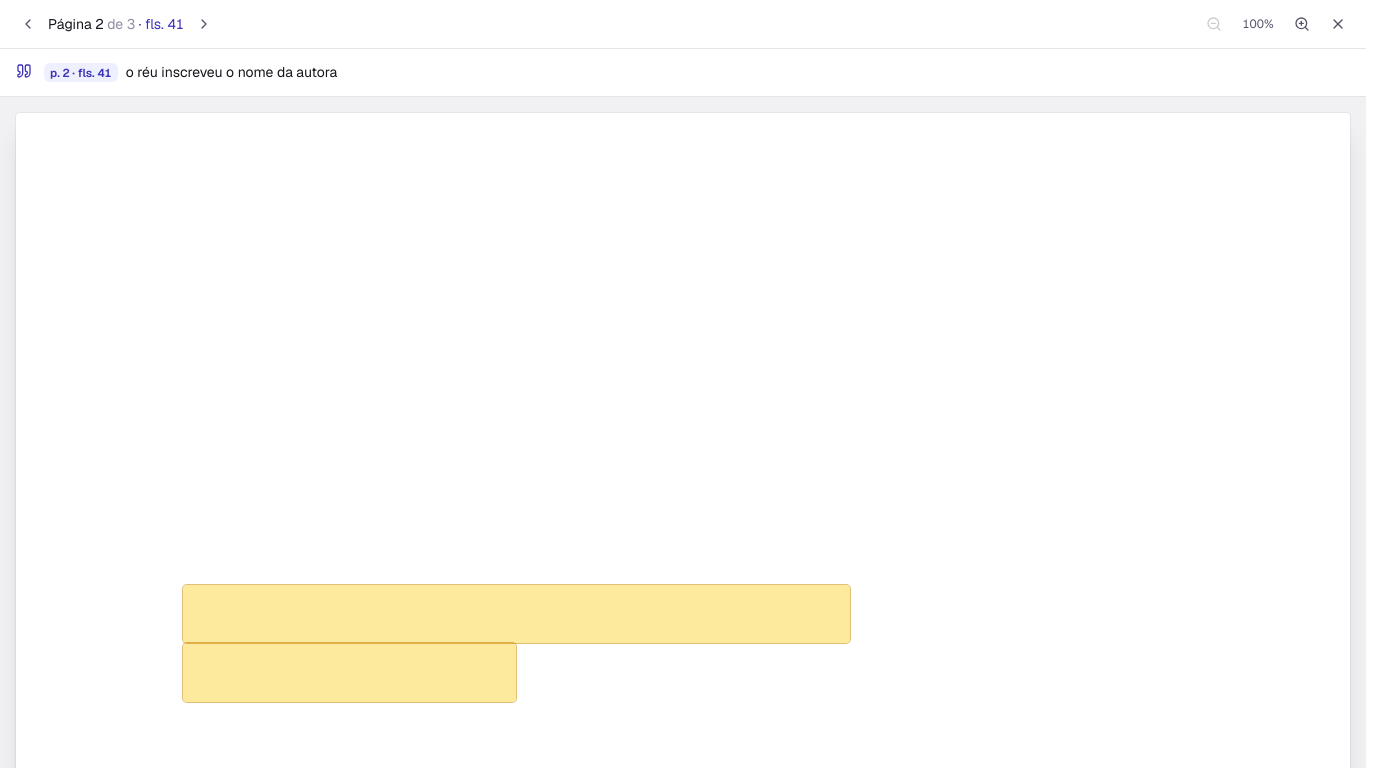
PdfViewer › stops zooming out at the width that fits and zooming in at three times it
Expected: the button named "Diminuir o zoom" is disabled, x1=1198 y1=8 x2=1230 y2=40
Click the button named "Aumentar o zoom" at coordinates (1302, 24), box x1=1286 y1=8 x2=1318 y2=40
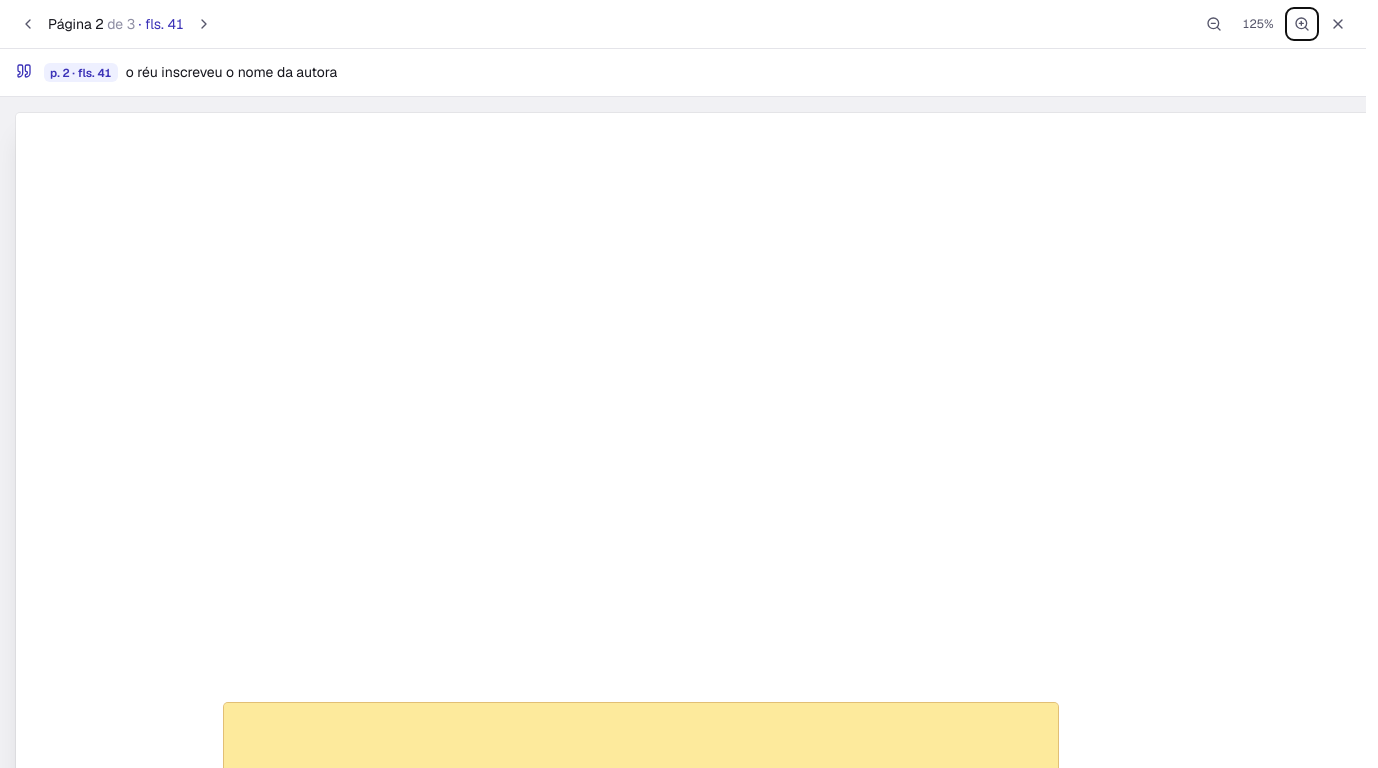
Click the button named "Aumentar o zoom" at coordinates (1302, 24), box x1=1286 y1=8 x2=1318 y2=40
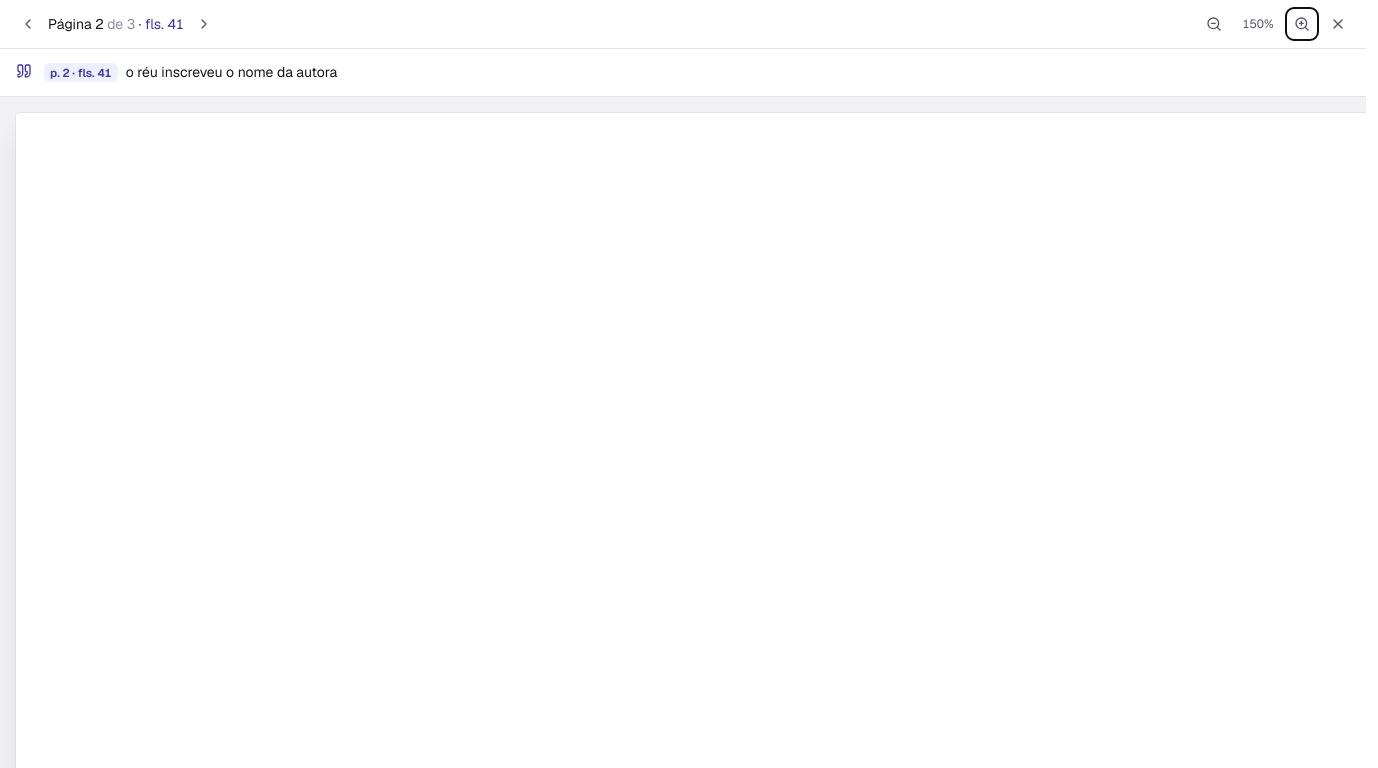
Click the button named "Aumentar o zoom" at coordinates (1302, 24), box x1=1286 y1=8 x2=1318 y2=40
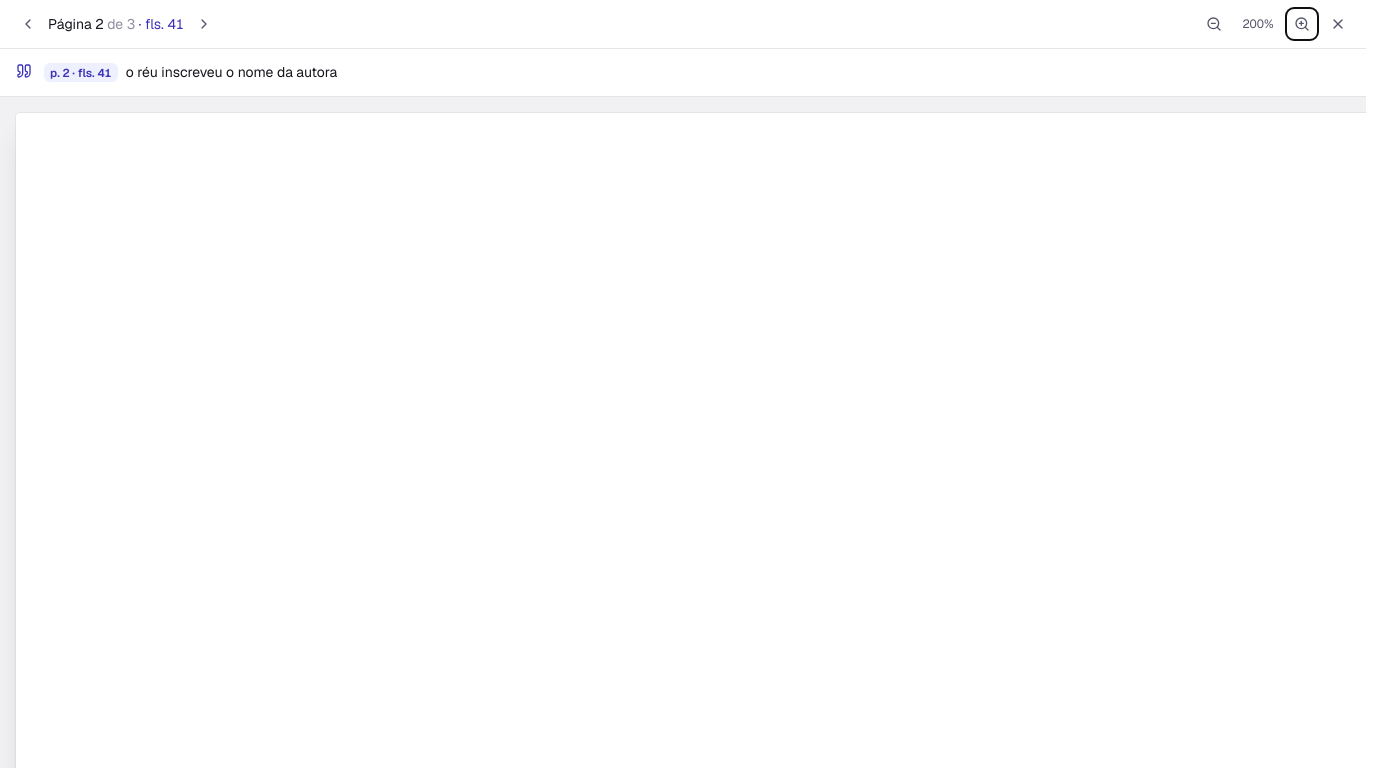
Click the button named "Aumentar o zoom" at coordinates (1302, 24), box x1=1286 y1=8 x2=1318 y2=40
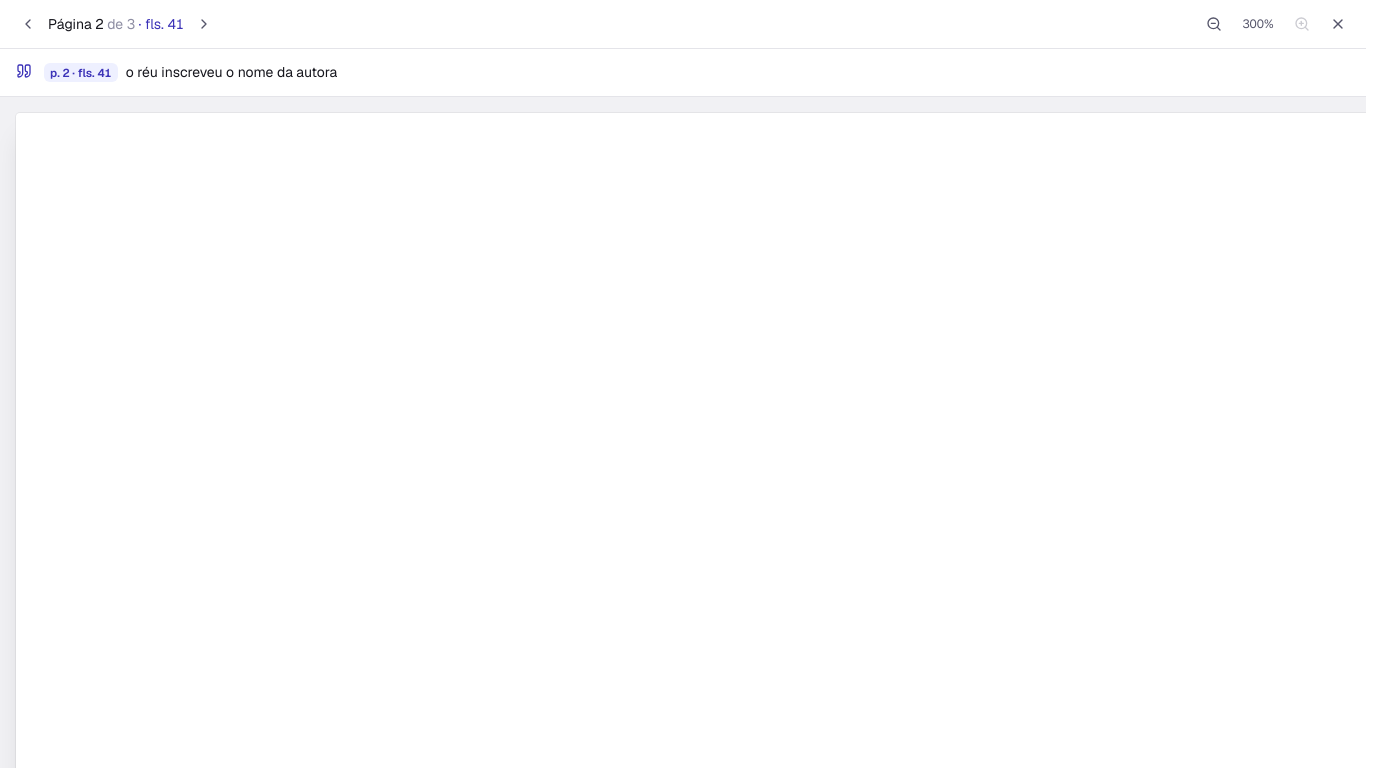
Expected: the button named "Aumentar o zoom" is disabled, x1=1286 y1=8 x2=1318 y2=40
